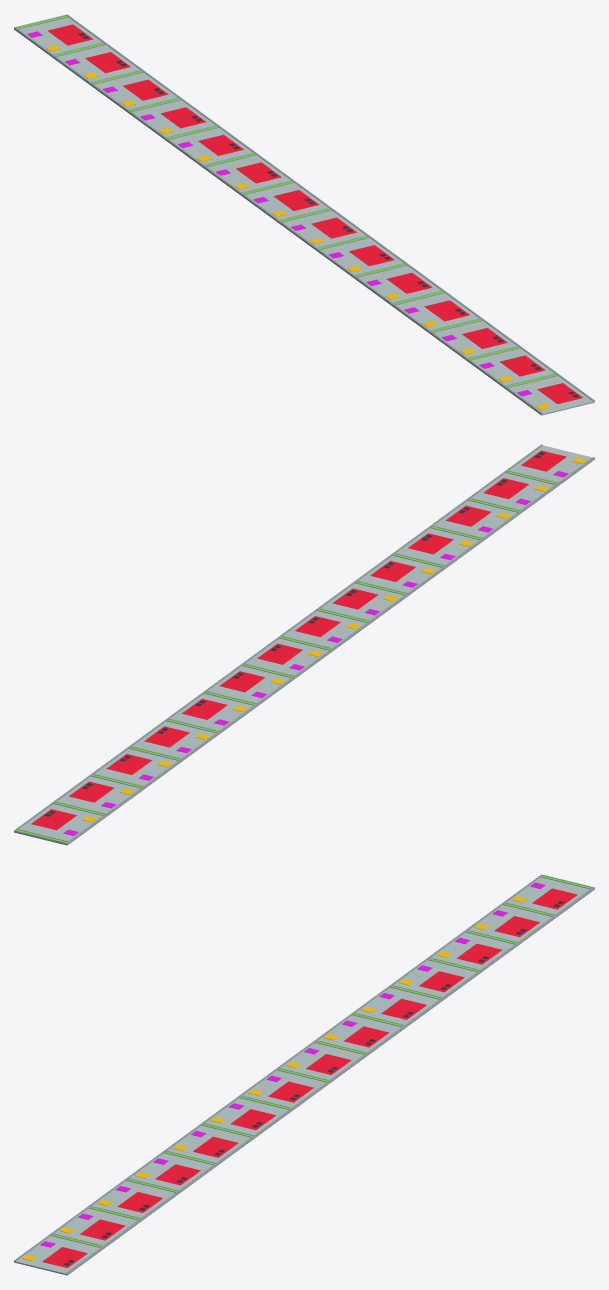
File: Lane.fbx
The picture shows the model from 3 angles, top to bottom: view 1: azimuth 30°, elevation 25°; view 2: azimuth 150°, elevation 25°; view 3: azimuth 330°, elevation 25°; orthographic projection.
Parts seen in each view (by area): view 1: Bay01|Floor|Dupli|, Bay10|Floor|Dupli|, Bay07|Floor|Dupli|, Bay14|Floor|Dupli|, Bay09|Floor|Dupli|, Bay11|Floor|Dupli|, Bay12|Floor|Dupli|, Bay05|Floor|Dupli|, Bay06|Floor|Dupli|, Bay08|Floor|Dupli|, Bay13|Floor|Dupli|, Bay02|Floor|Dupli| (+16 smaller); view 2: Bay14|Floor|Dupli|, Bay10|Floor|Dupli|, Bay13|Floor|Dupli|, Bay01|Floor|Dupli|, Bay03|Floor|Dupli|, Bay04|Floor|Dupli|, Bay05|Floor|Dupli|, Bay06|Floor|Dupli|, Bay07|Floor|Dupli|, Bay08|Floor|Dupli|, Bay11|Floor|Dupli|, Bay09|Floor|Dupli| (+16 smaller); view 3: Bay01|Floor|Dupli|, Bay07|Floor|Dupli|, Bay05|Floor|Dupli|, Bay08|Floor|Dupli|, Bay09|Floor|Dupli|, Bay14|Floor|Dupli|, Bay02|Floor|Dupli|, Bay04|Floor|Dupli|, Bay10|Floor|Dupli|, Bay03|Floor|Dupli|, Bay11|Floor|Dupli|, Bay12|Floor|Dupli| (+16 smaller).
Boxes of the visible parts, x1,y1,x2,y2 form: Bay01|Floor|Dupli|: (504, 376, 594, 415); Bay10|Floor|Dupli|: (164, 127, 253, 166); Bay07|Floor|Dupli|: (277, 210, 366, 249); Bay14|Floor|Dupli|: (14, 17, 102, 56); Bay09|Floor|Dupli|: (202, 155, 290, 194); Bay11|Floor|Dupli|: (127, 100, 215, 139); Bay12|Floor|Dupli|: (89, 72, 177, 111); Bay05|Floor|Dupli|: (353, 265, 441, 304); Bay06|Floor|Dupli|: (315, 238, 403, 277); Bay08|Floor|Dupli|: (240, 182, 328, 221); Bay13|Floor|Dupli|: (51, 45, 139, 84); Bay02|Floor|Dupli|: (466, 348, 554, 387); Bay14|Floor|Dupli|: (14, 804, 104, 845); Bay10|Floor|Dupli|: (167, 693, 255, 734); Bay13|Floor|Dupli|: (54, 776, 142, 817); Bay01|Floor|Dupli|: (506, 445, 594, 486); Bay03|Floor|Dupli|: (430, 500, 519, 541); Bay04|Floor|Dupli|: (393, 528, 481, 569); Bay05|Floor|Dupli|: (357, 555, 444, 596); Bay06|Floor|Dupli|: (317, 583, 406, 624); Bay07|Floor|Dupli|: (279, 611, 368, 651); Bay08|Floor|Dupli|: (242, 638, 331, 679); Bay11|Floor|Dupli|: (130, 721, 218, 762); Bay09|Floor|Dupli|: (204, 666, 293, 707); Bay01|Floor|Dupli|: (14, 1236, 104, 1275); Bay07|Floor|Dupli|: (242, 1070, 331, 1109); Bay05|Floor|Dupli|: (167, 1125, 255, 1164); Bay08|Floor|Dupli|: (280, 1042, 368, 1081); Bay09|Floor|Dupli|: (318, 1015, 406, 1054); Bay14|Floor|Dupli|: (506, 877, 594, 916); Bay02|Floor|Dupli|: (54, 1208, 142, 1247); Bay04|Floor|Dupli|: (129, 1153, 218, 1192); Bay10|Floor|Dupli|: (355, 987, 444, 1026); Bay03|Floor|Dupli|: (92, 1180, 180, 1219); Bay11|Floor|Dupli|: (393, 960, 481, 999); Bay12|Floor|Dupli|: (431, 932, 519, 971).
Bounding box in the file's own units: 4600 × 185 × 78400.
